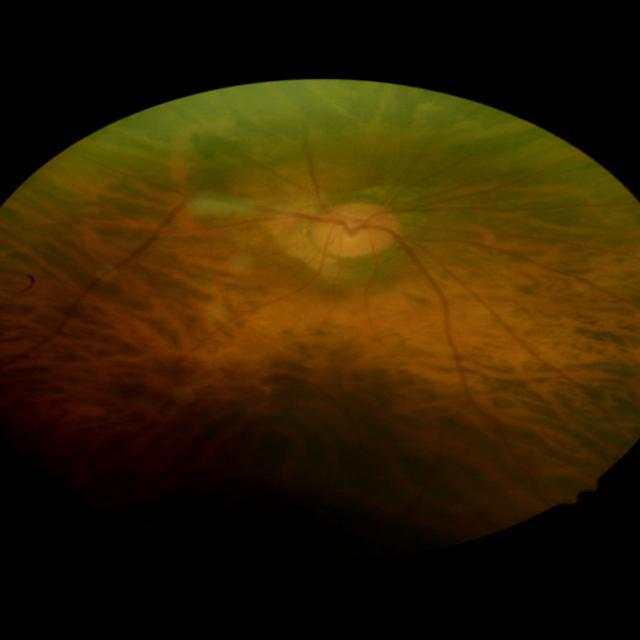cup: (327, 213, 384, 243)
disk: (311, 201, 399, 257)
